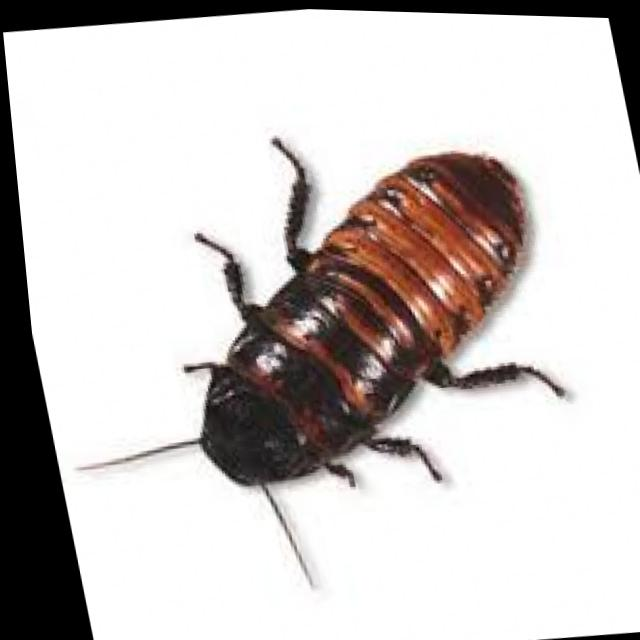Cockroach: (7, 94, 611, 619)
